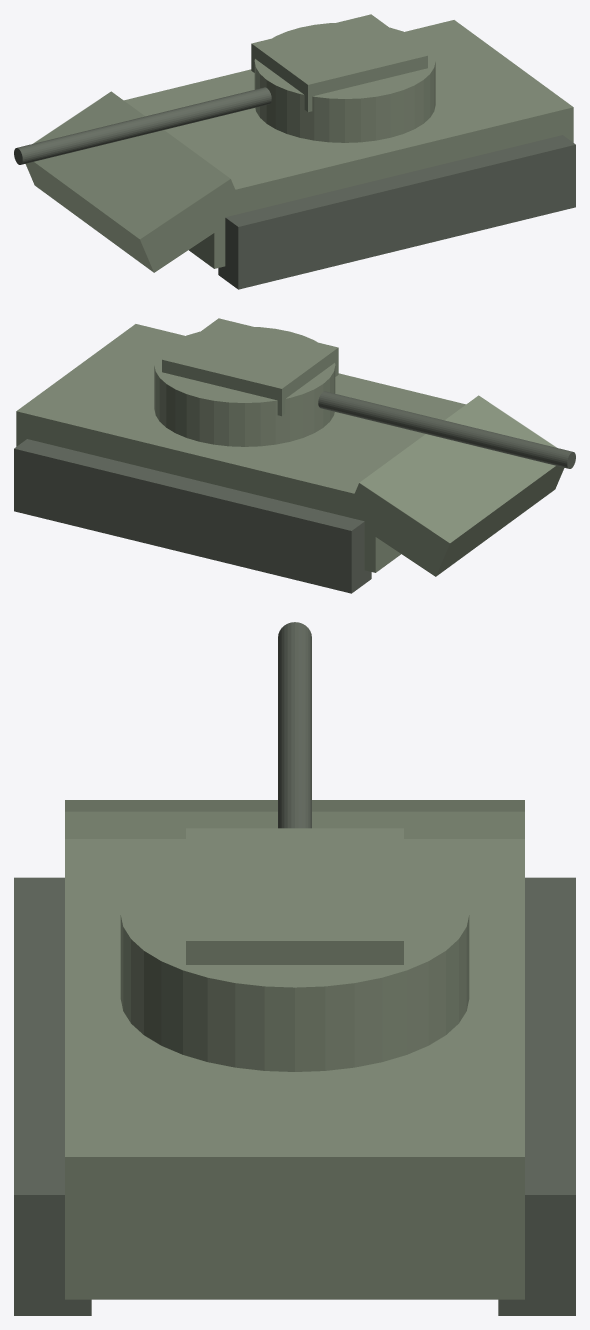
File: Type99_Main_Battle_Tank_AI_Rodin_before_x_cw90.glb
The picture shows the model from 3 angles, top to bottom: view 1: azimuth 30°, elevation 25°; view 2: azimuth 150°, elevation 25°; view 3: azimuth 270°, elevation 25°; orthographic projection. The views are drawn at different scales.
Visible parts, largest first — view 1: world; view 2: world; view 3: world.
Boxes of the visible parts, x1=… form: world: x1=14, y1=14, x2=575, y2=289; world: x1=14, y1=318, x2=575, y2=593; world: x1=14, y1=622, x2=575, y2=1315.
Size of the model in its own units: 4.55 by 1.26 by 2.32.
